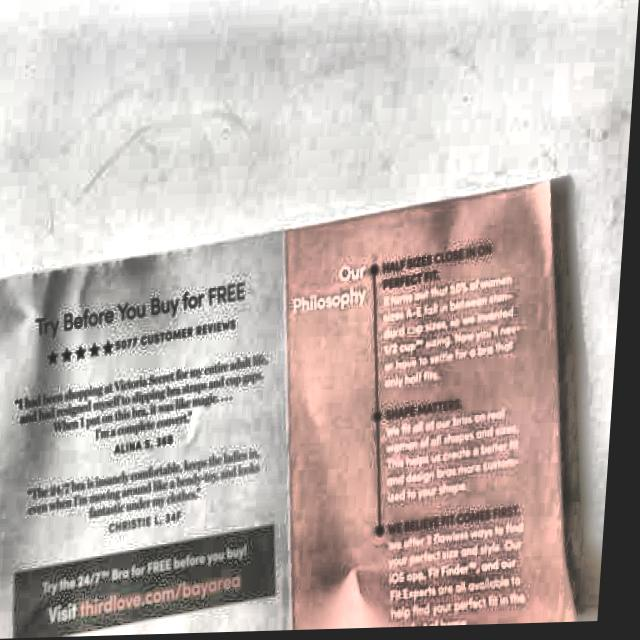Paper: (0, 166, 631, 640)
